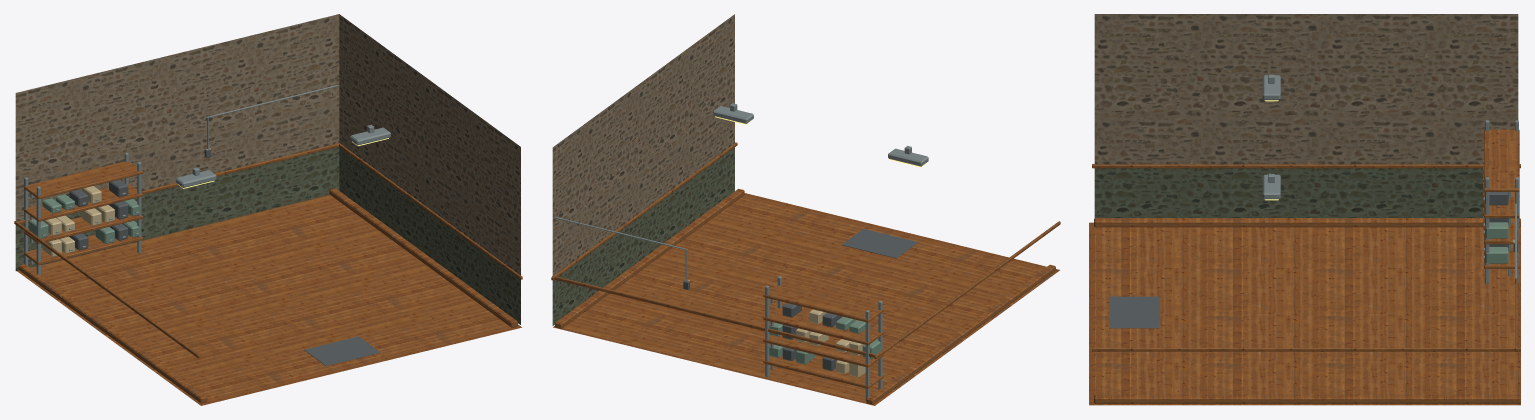
Rendered from room.glb.
3 renders of one model, left to right at view 1: azimuth 30°, elevation 25°; view 2: azimuth 150°, elevation 25°; view 3: azimuth 270°, elevation 25°, orthographic. The views are drawn at different scales.
Visible parts, largest first — view 1: room; view 2: room; view 3: room.
Part boxes in pixels (<box>): room: <box>14,14,522,405</box>; room: <box>551,14,1060,405</box>; room: <box>1089,14,1520,405</box>.
Bounding box in the file's own units: 7.83 × 4.11 × 7.73.
Materials: 8 (3 with a texture image).
